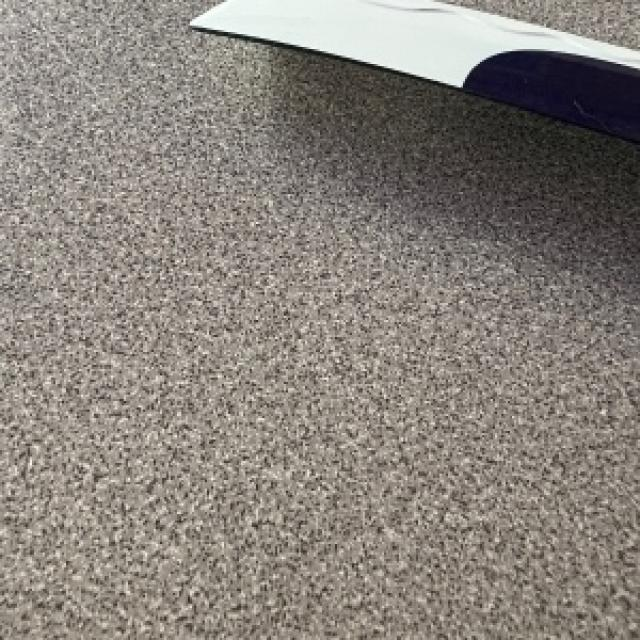healthy: (190, 0, 638, 139)
